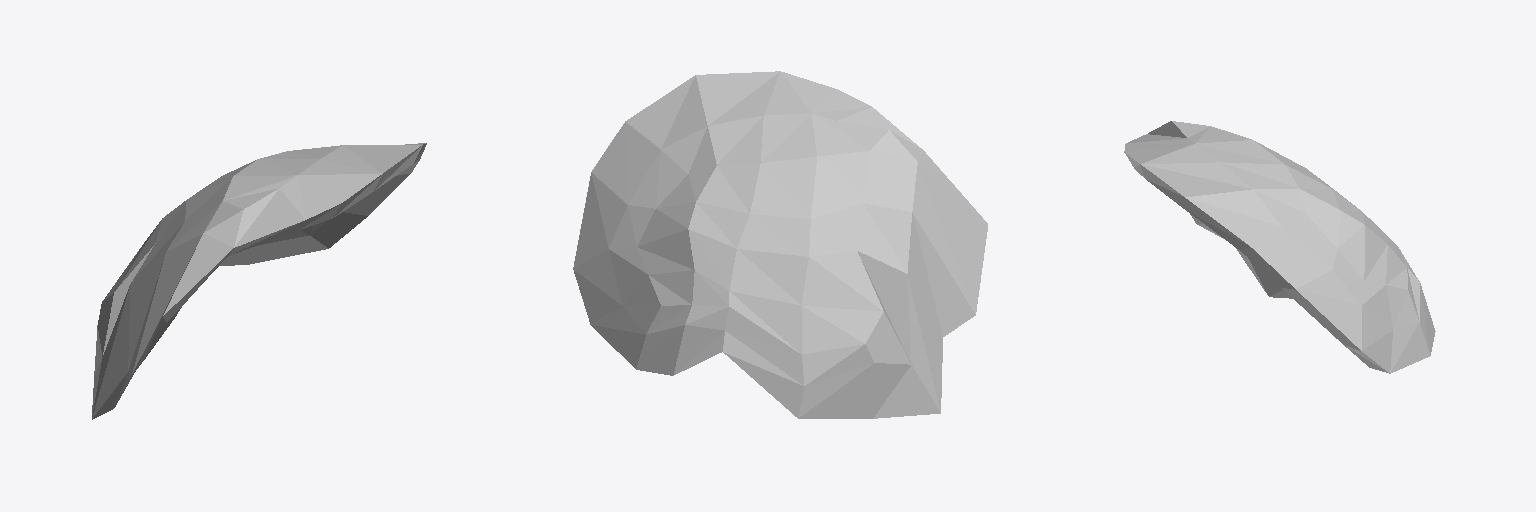
The model's file is Tree Top Large 1.obj.
3 views of the same model, side by side, from view 1: azimuth 30°, elevation 25°; view 2: azimuth 150°, elevation 25°; view 3: azimuth 270°, elevation 25° (orthographic).
Bounding box in the file's own units: 1622 × 1099 × 1296.